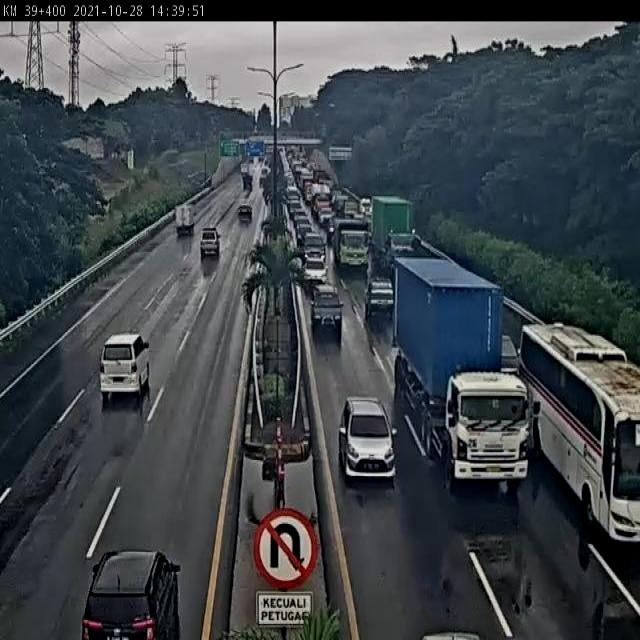Bus: (522, 314, 639, 558)
Car: (77, 544, 192, 640), (338, 395, 397, 482), (310, 286, 344, 344), (364, 274, 394, 327), (302, 254, 328, 288), (501, 333, 520, 373), (200, 227, 220, 256), (332, 192, 348, 214), (237, 204, 253, 222), (360, 197, 372, 217), (260, 166, 270, 181)
Truck: (388, 255, 541, 492), (368, 188, 421, 274), (331, 215, 376, 274), (174, 207, 196, 238)
Van: (99, 332, 151, 404)
